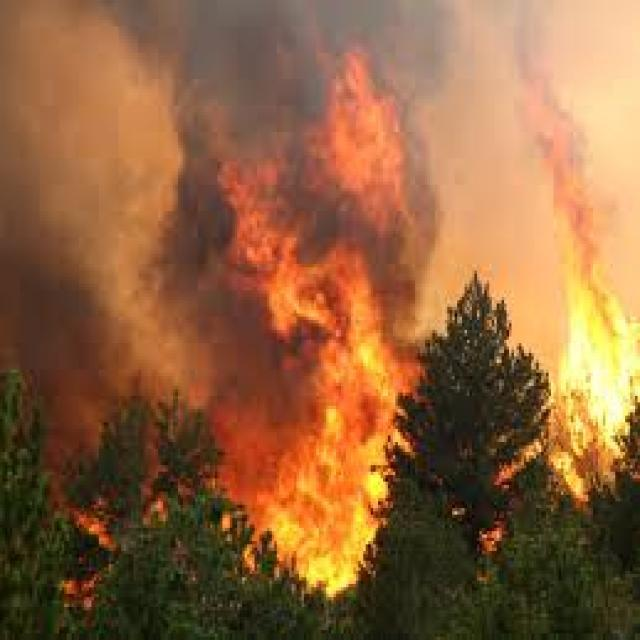Fire: (246, 271, 394, 599), (239, 89, 404, 258), (558, 263, 640, 475)
Smoke: (0, 3, 173, 370)
